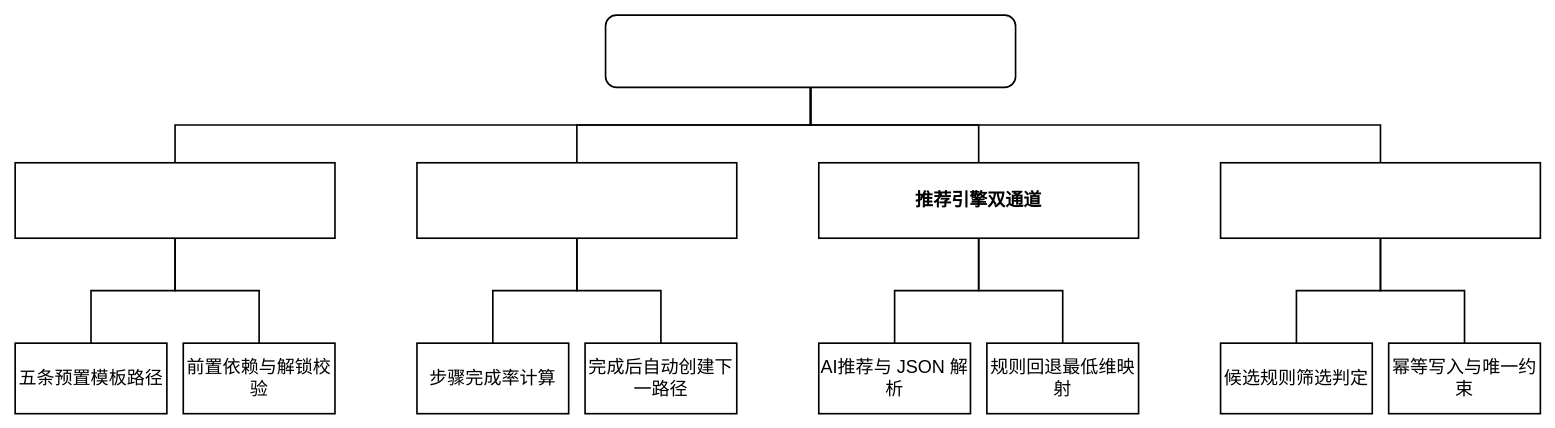
Some shapes in this 1555 by 428 pixel diagram are drawn without their labels. Here are the shapes that lost their labels. From the top down, the box of each, then its label:
(604, 14, 1016, 88): AI学习路径与成就系统模块
(14, 162, 335, 239): 路径模板与实例化
(416, 162, 737, 239): 进度推进与阶段解锁
(1219, 162, 1541, 239): 成就引擎事件驱动
